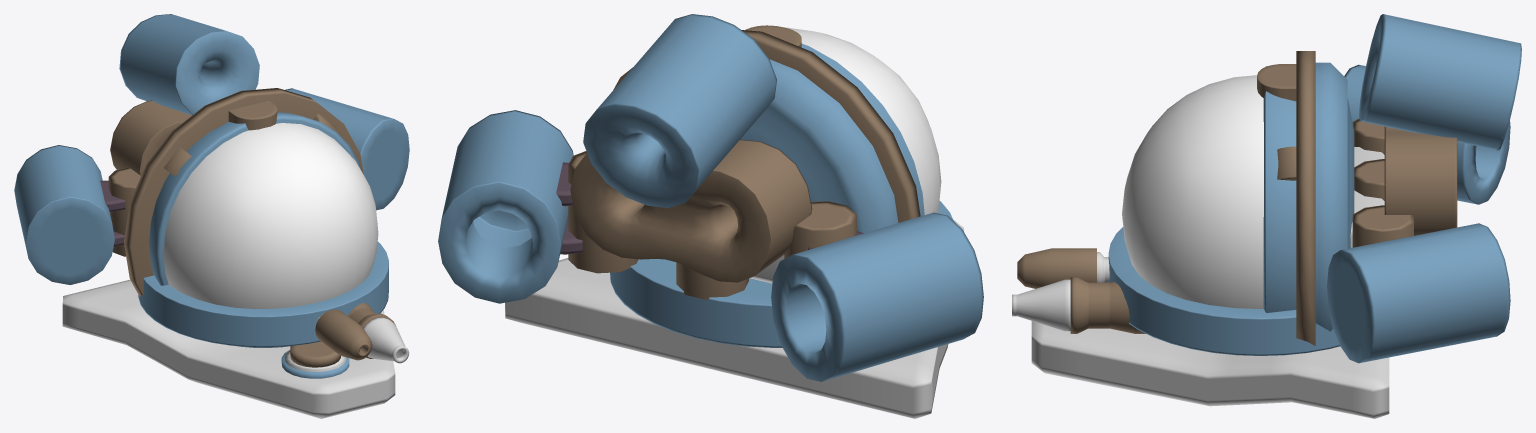
Rendered from Ship_Draft.fbx.
The picture shows the model from 3 angles, left to right: view 1: azimuth 30°, elevation 25°; view 2: azimuth 150°, elevation 25°; view 3: azimuth 270°, elevation 25°; orthographic projection. The views are drawn at different scales.
Parts seen in each view (by area): view 1: pCube7, pCube8, pCylinder35, pCylinder43, pCylinder8, pCylinder1, pCylinder42, pCube9, pCylinder41, pCylinder14, pCylinder34, geo_pivot_b (+7 smaller); view 2: pCylinder35, pCylinder43, pCylinder42, pCylinder41, pCube8, pCylinder29, pCylinder8, pCube7, pCylinder1, geo_pivot_b, geo_pivot_a, pCube9 (+2 smaller); view 3: pCube7, pCylinder42, pCube8, pCylinder43, pCylinder8, pCylinder29, pCylinder41, pCube9, pCylinder1, pCylinder35, pCylinder12, pCylinder14 (+7 smaller).
Part boxes in pixels (bbox=[...]): pCube7: bbox=[163, 123, 378, 308]; pCube8: bbox=[62, 280, 395, 418]; pCylinder35: bbox=[14, 145, 114, 284]; pCylinder43: bbox=[119, 14, 259, 115]; pCylinder8: bbox=[138, 241, 388, 347]; pCylinder1: bbox=[124, 88, 363, 296]; pCylinder42: bbox=[285, 88, 409, 210]; pCube9: bbox=[149, 112, 361, 285]; pCylinder41: bbox=[110, 100, 191, 175]; pCylinder14: bbox=[315, 309, 372, 360]; pCylinder34: bbox=[363, 317, 409, 363]; geo_pivot_b: bbox=[108, 167, 140, 256]; pCylinder35: bbox=[771, 212, 983, 381]; pCylinder43: bbox=[583, 14, 776, 207]; pCylinder42: bbox=[438, 110, 573, 303]; pCylinder41: bbox=[570, 139, 812, 282]; pCube8: bbox=[505, 220, 963, 418]; pCylinder29: bbox=[740, 59, 898, 233]; pCylinder8: bbox=[610, 201, 953, 347]; pCube7: bbox=[786, 27, 941, 214]; pCylinder1: bbox=[613, 30, 920, 222]; geo_pivot_b: bbox=[784, 201, 856, 258]; geo_pivot_a: bbox=[568, 151, 638, 273]; pCube9: bbox=[801, 43, 924, 216]; pCube7: bbox=[1122, 75, 1263, 309]; pCylinder42: bbox=[1327, 223, 1510, 363]; pCube8: bbox=[1031, 321, 1389, 418]; pCylinder43: bbox=[1359, 14, 1521, 150]; pCylinder8: bbox=[1108, 227, 1339, 355]; pCylinder29: bbox=[1315, 62, 1354, 331]; pCylinder41: bbox=[1384, 126, 1457, 235]; pCube9: bbox=[1263, 66, 1296, 312]; pCylinder1: bbox=[1296, 51, 1315, 345]; pCylinder35: bbox=[1344, 64, 1510, 204]; pCylinder12: bbox=[1070, 277, 1145, 333]; pCylinder14: bbox=[1017, 248, 1096, 288].
Size of the model in its own units: 24.51 by 17.26 by 23.27.
